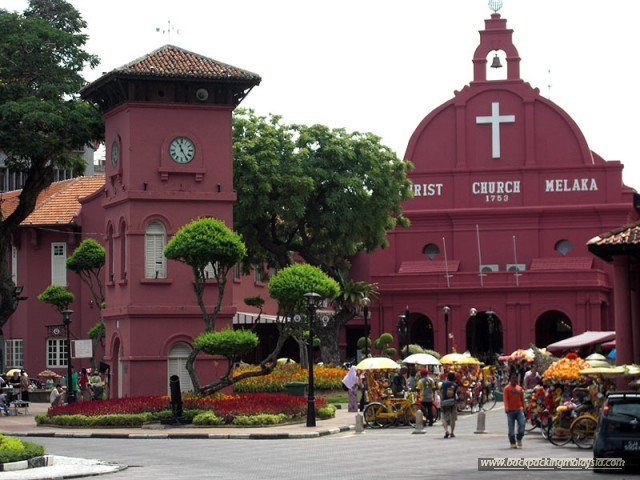Church: (372, 5, 640, 357)
